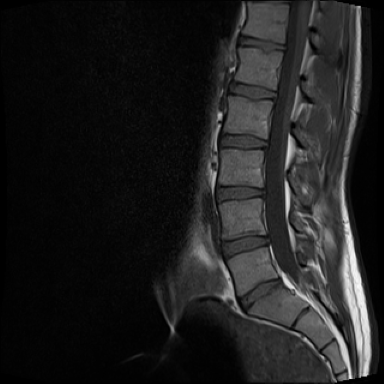Lumbar Disc Bulge (LDB): (214, 228, 284, 263), (211, 182, 274, 203)
Normal IVD: (231, 272, 285, 315), (224, 77, 280, 104), (218, 131, 273, 151), (238, 34, 289, 54)
Spinal Stenosis (SS): (260, 226, 274, 250), (257, 179, 272, 199)
